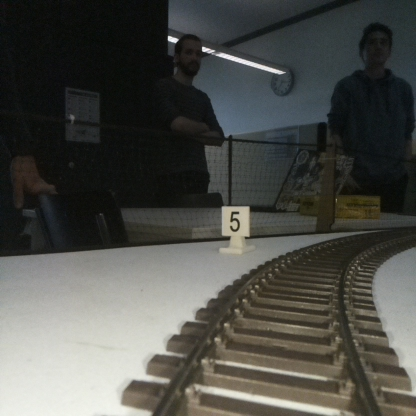white-stop-5: (222, 205, 249, 251)
